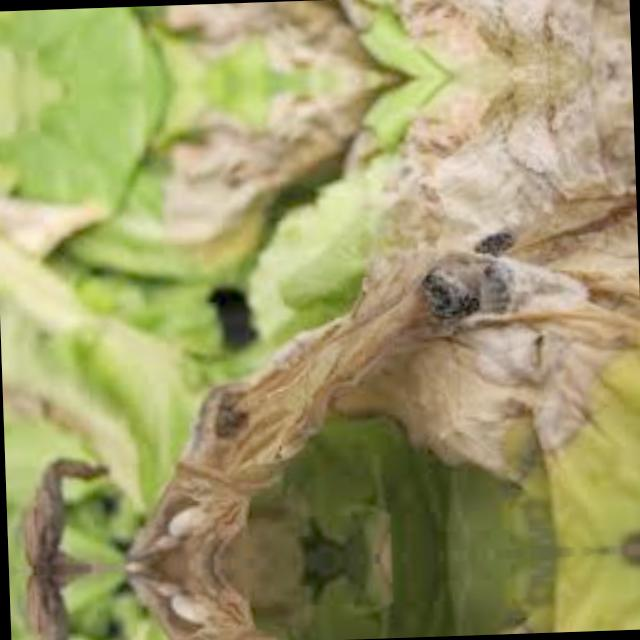Downy_mildew: (83, 78, 629, 568), (99, 548, 632, 640), (80, 0, 612, 80)
